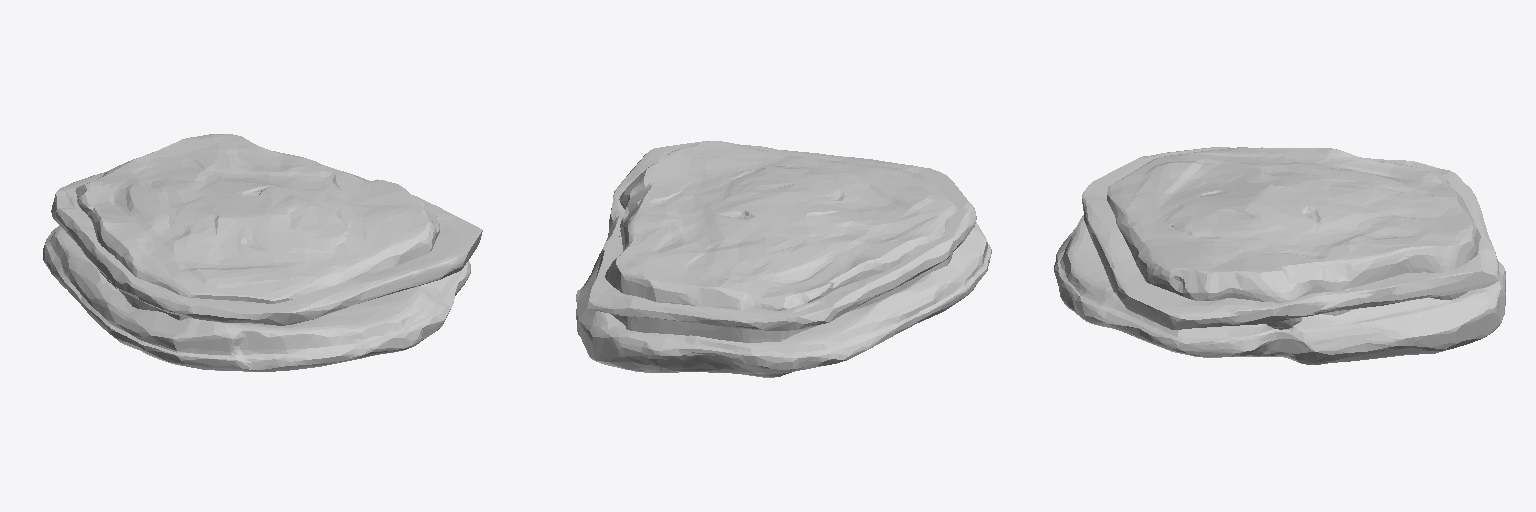
File: Cliff_layered_01.obj
The picture shows the model from 3 angles: view 1: azimuth 30°, elevation 25°; view 2: azimuth 150°, elevation 25°; view 3: azimuth 270°, elevation 25°; orthographic projection.
Parts seen in each view (by area): view 1: Group4446; view 2: Group4446; view 3: Group4446.
Part boxes in pixels (x1,y1,x2,y2): Group4446: (43,134,482,371); Group4446: (576,141,991,377); Group4446: (1054,147,1505,364).
Size of the model in its own units: 2.12 by 0.6116 by 2.39.